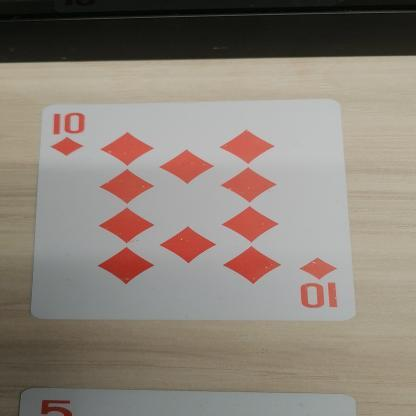10D: (34, 102, 116, 168), (297, 250, 344, 314)
